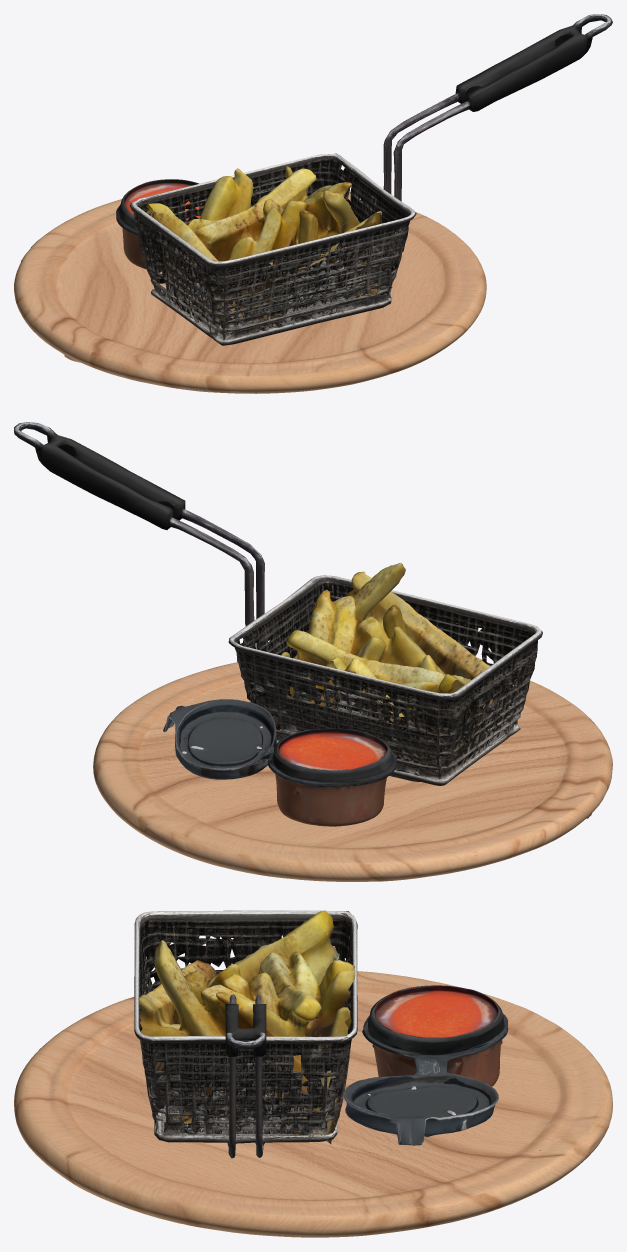
The model's file is Sib.glb.
3 renders of one model, top to bottom at view 1: azimuth 30°, elevation 25°; view 2: azimuth 150°, elevation 25°; view 3: azimuth 270°, elevation 25°, orthographic. The views are drawn at different scales.
Parts seen in each view (by area): view 1: Mesh_0.001, Submesh_0.001, 3DModel, Mesh_0.002; view 2: Mesh_0.001, Submesh_0.001, Mesh_0.002, 3DModel; view 3: Mesh_0.001, Submesh_0.001, Mesh_0.002, 3DModel.
Part boxes in pixels (x1=…): Mesh_0.001: x1=14, y1=192, x2=486, y2=393; Submesh_0.001: x1=130, y1=14, x2=612, y2=345; 3DModel: x1=146, y1=166, x2=393, y2=334; Mesh_0.002: x1=116, y1=179, x2=260, y2=271; Mesh_0.001: x1=93, y1=662, x2=612, y2=881; Submesh_0.001: x1=14, y1=422, x2=542, y2=785; Mesh_0.002: x1=163, y1=699, x2=396, y2=826; 3DModel: x1=247, y1=563, x2=515, y2=781; Mesh_0.001: x1=14, y1=971, x2=612, y2=1237; Submesh_0.001: x1=134, y1=910, x2=357, y2=1158; Mesh_0.002: x1=343, y1=985, x2=508, y2=1145; 3DModel: x1=138, y1=910, x2=355, y2=1144.
Size of the model in its own units: 0.2846 by 0.1117 by 0.2171.
Materials: 4 (4 with a texture image).
